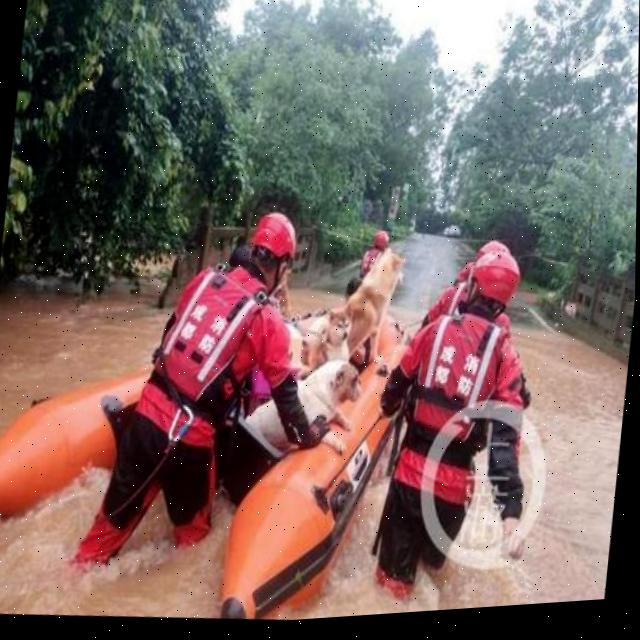dog: (248, 348, 372, 467), (336, 246, 408, 369), (307, 301, 363, 371)
rescuer: (60, 186, 344, 614), (356, 232, 560, 616), (412, 224, 526, 338), (350, 217, 393, 281)
